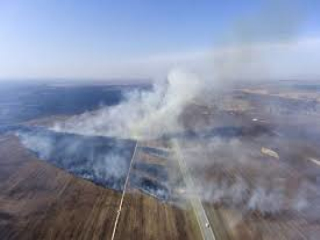smoke: (37, 68, 215, 151)
